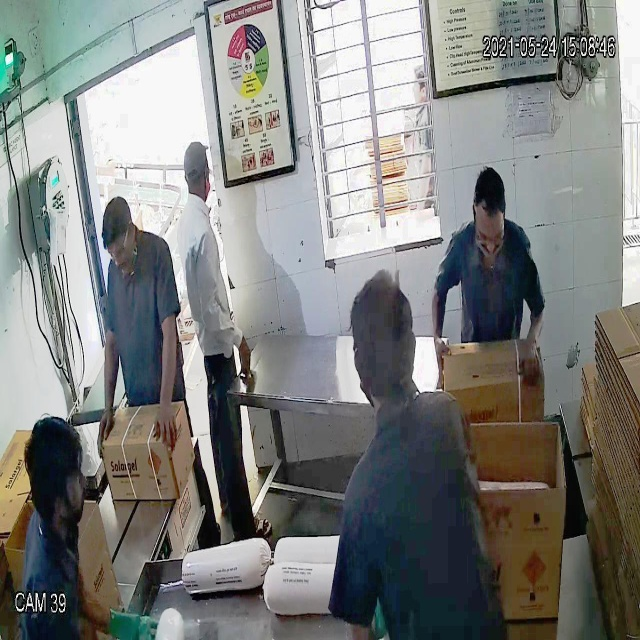Gafas: (470, 215, 506, 253), (105, 231, 134, 261)
